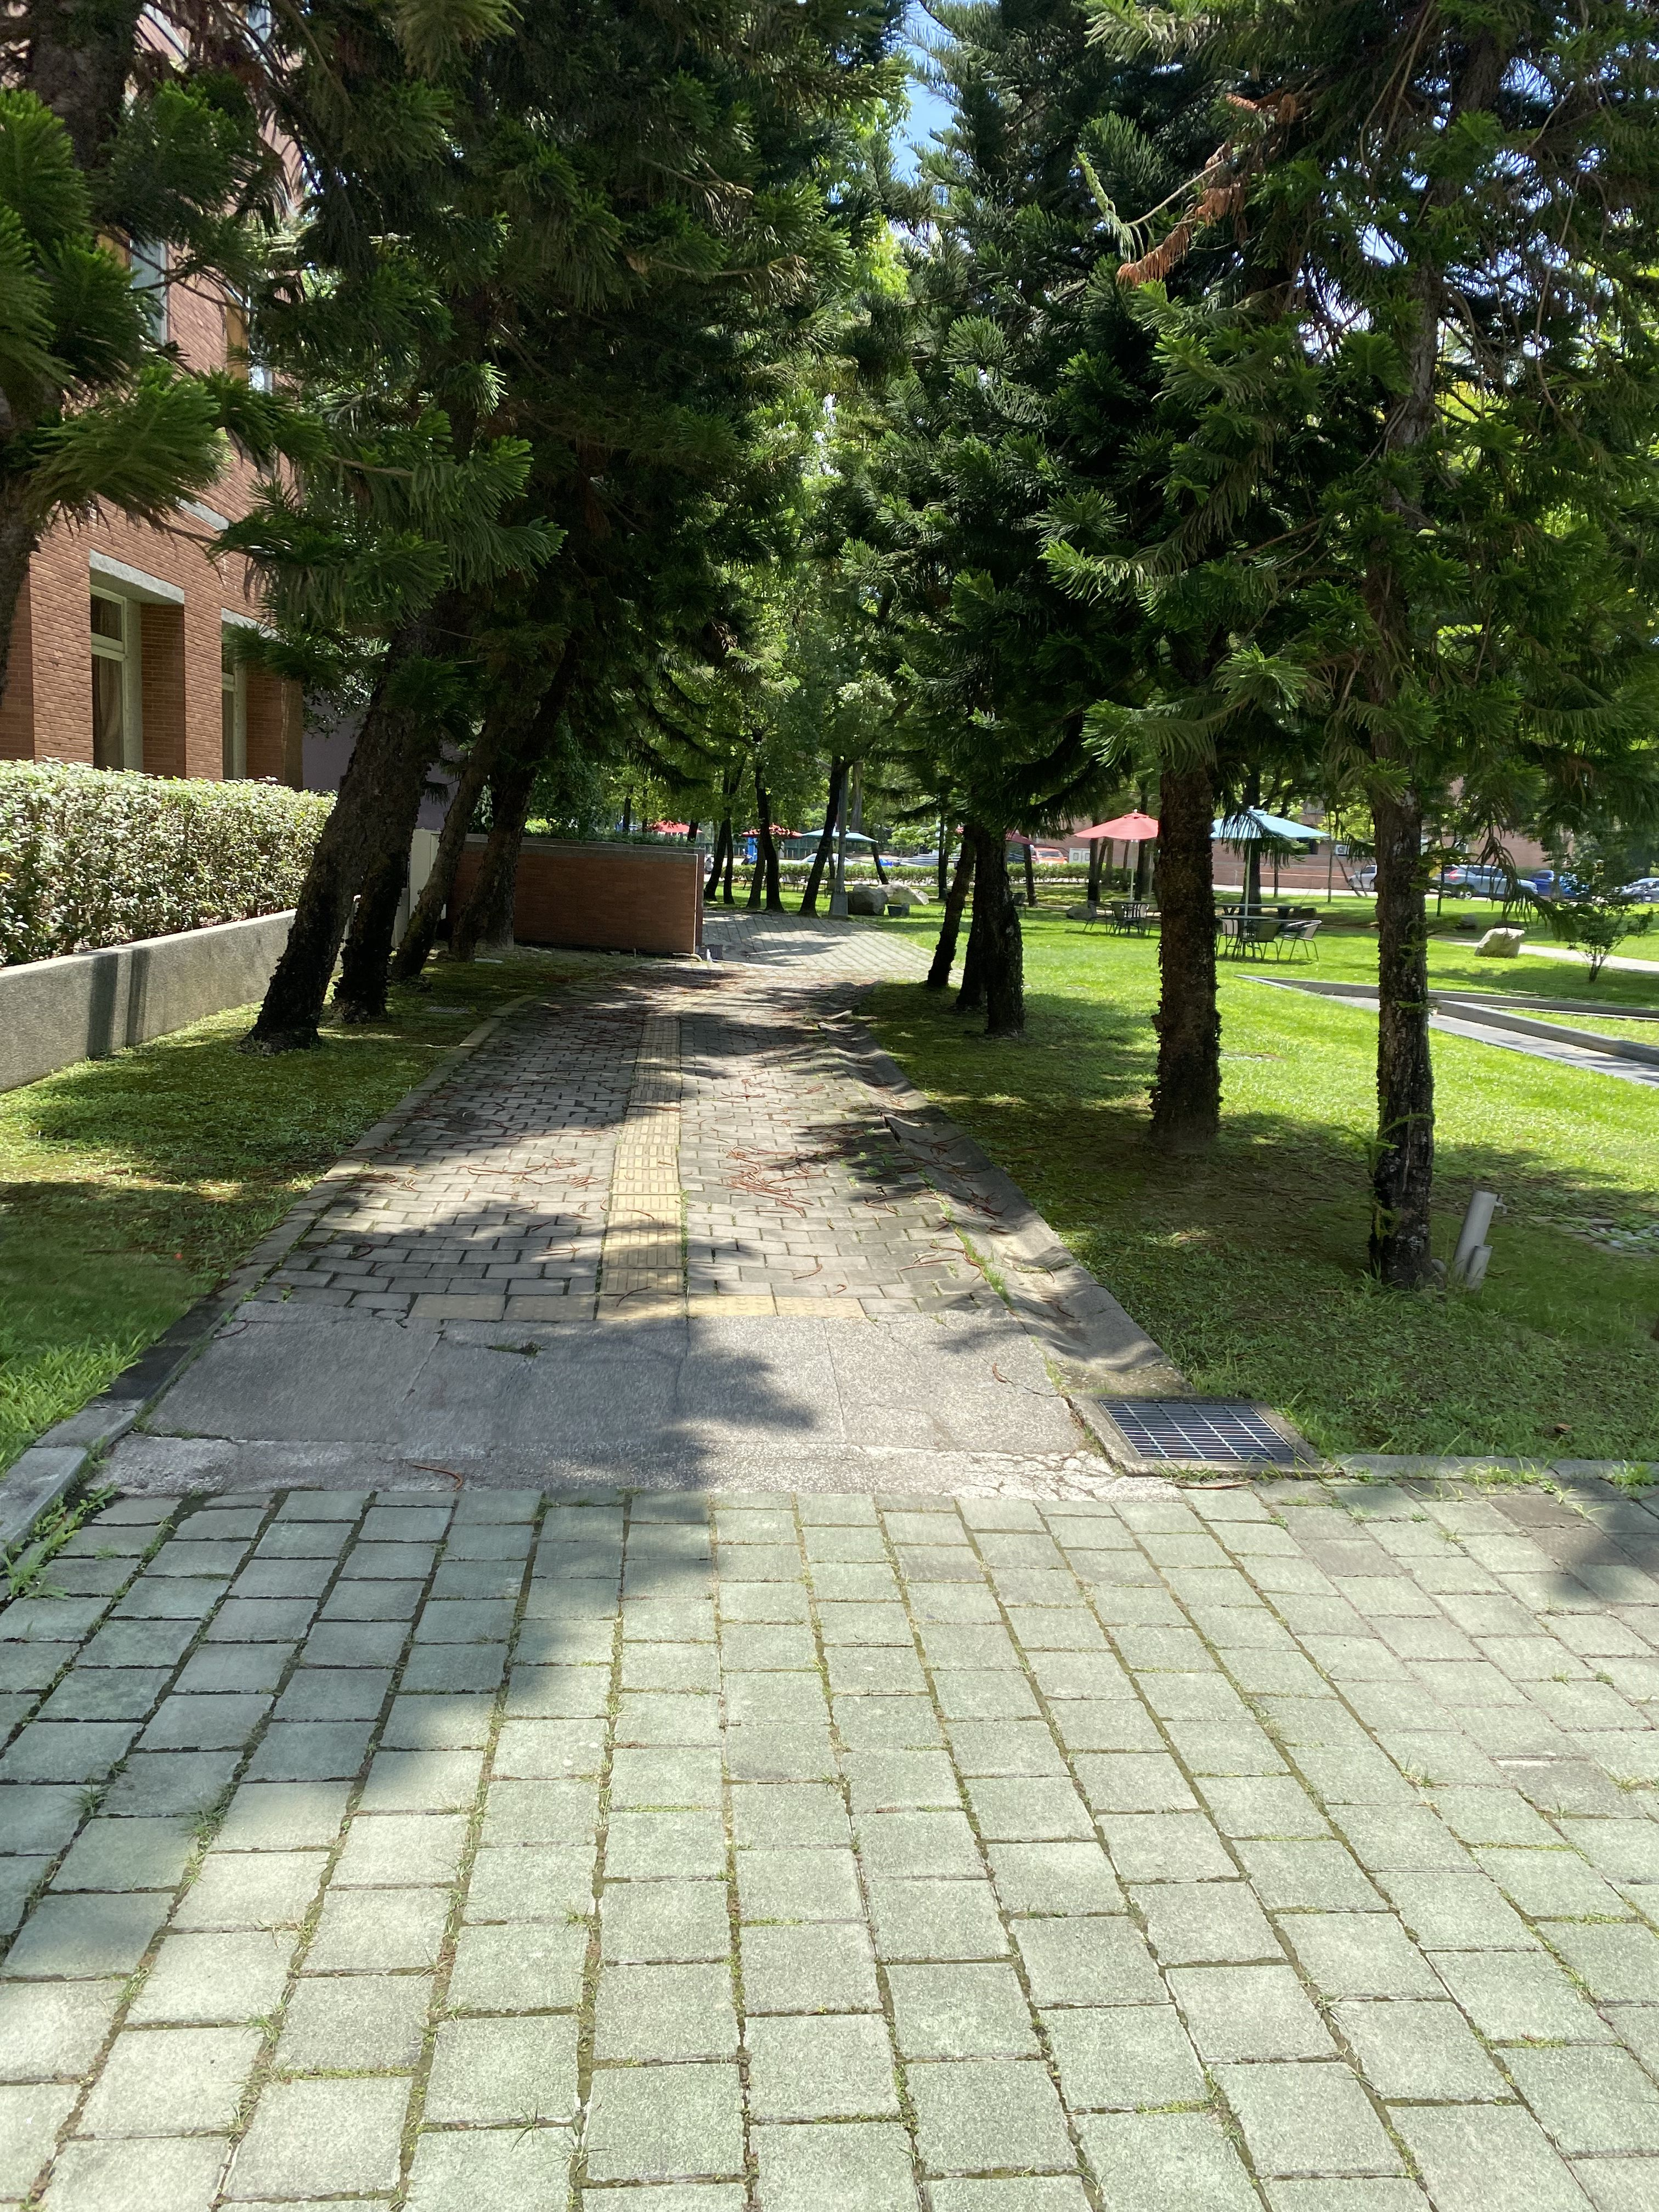0: (17, 1275, 1659, 2212)
sidewalk: (218, 843, 1467, 1592)
